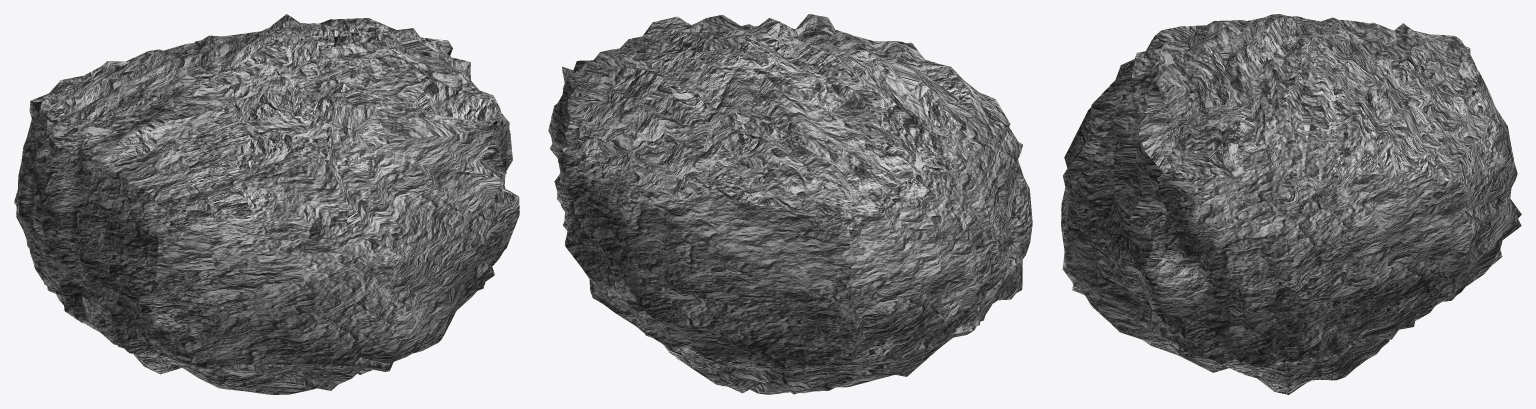
The model's file is rock_1.fbx.
3 renders of one model, left to right at view 1: azimuth 30°, elevation 25°; view 2: azimuth 150°, elevation 25°; view 3: azimuth 270°, elevation 25°, orthographic. The views are drawn at different scales.
Visible parts, largest first — view 1: pCube45; view 2: pCube45; view 3: pCube45.
Part boxes in pixels (box(x1,y1,x2,y2)): pCube45: box(14, 14, 519, 394); pCube45: box(548, 14, 1032, 394); pCube45: box(1061, 14, 1521, 394).
Size of the model in its own units: 63.32 by 46.26 by 58.71.
1 material, 1 textured.
